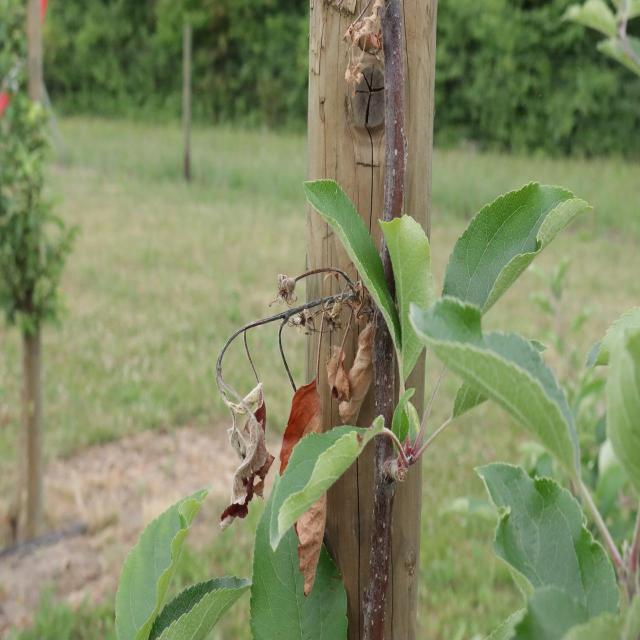-FireBlight-: (280, 323, 330, 592), (212, 327, 274, 523), (331, 271, 376, 426)
